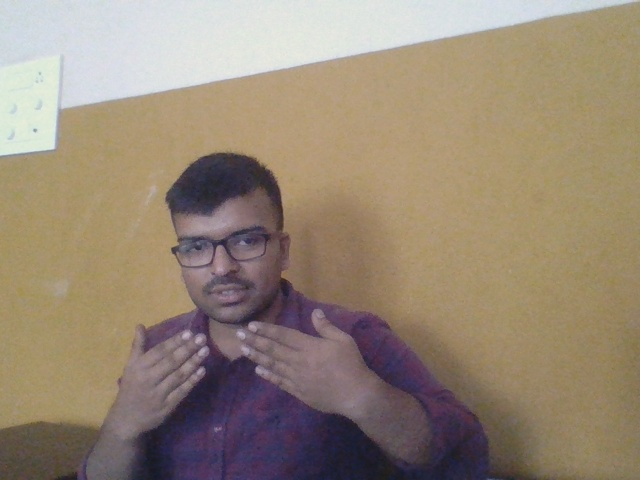Thank You: (92, 300, 394, 451)
